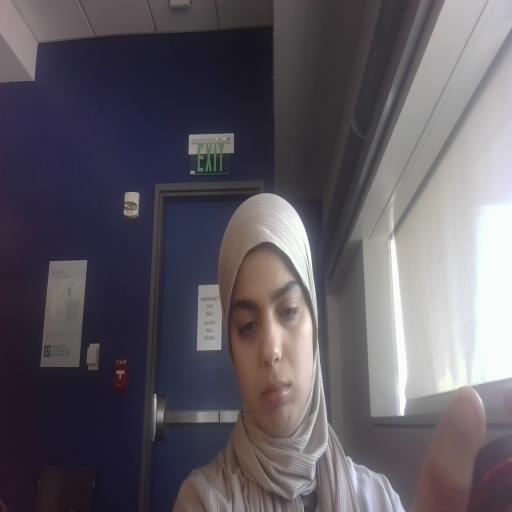phone: (432, 358, 512, 512)
